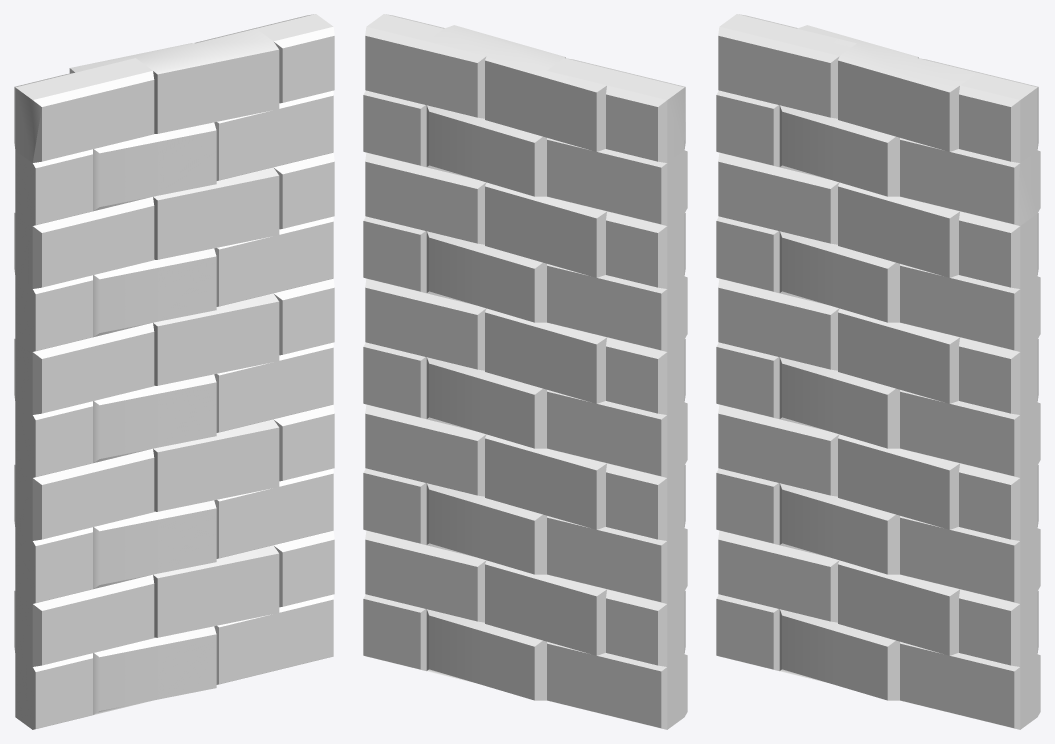
The model's file is Wall_Brick_White.glb.
3 renders of one model, left to right at view 1: azimuth 30°, elevation 25°; view 2: azimuth 150°, elevation 25°; view 3: azimuth 330°, elevation 25°, orthographic.
Parts seen in each view (by area): view 1: wall_brick_red_geo; view 2: wall_brick_red_geo; view 3: wall_brick_red_geo.
Boxes of the visible parts, bbox=[...] form: wall_brick_red_geo: bbox=[14, 14, 334, 729]; wall_brick_red_geo: bbox=[363, 14, 687, 729]; wall_brick_red_geo: bbox=[716, 14, 1040, 729].
Size of what is drawn, in the model's own units: 2.5 by 5 by 0.482.
Materials: 1 (1 with a texture image).
